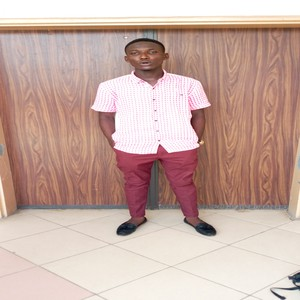Fulokoja_male_student: (98, 43, 204, 235)
